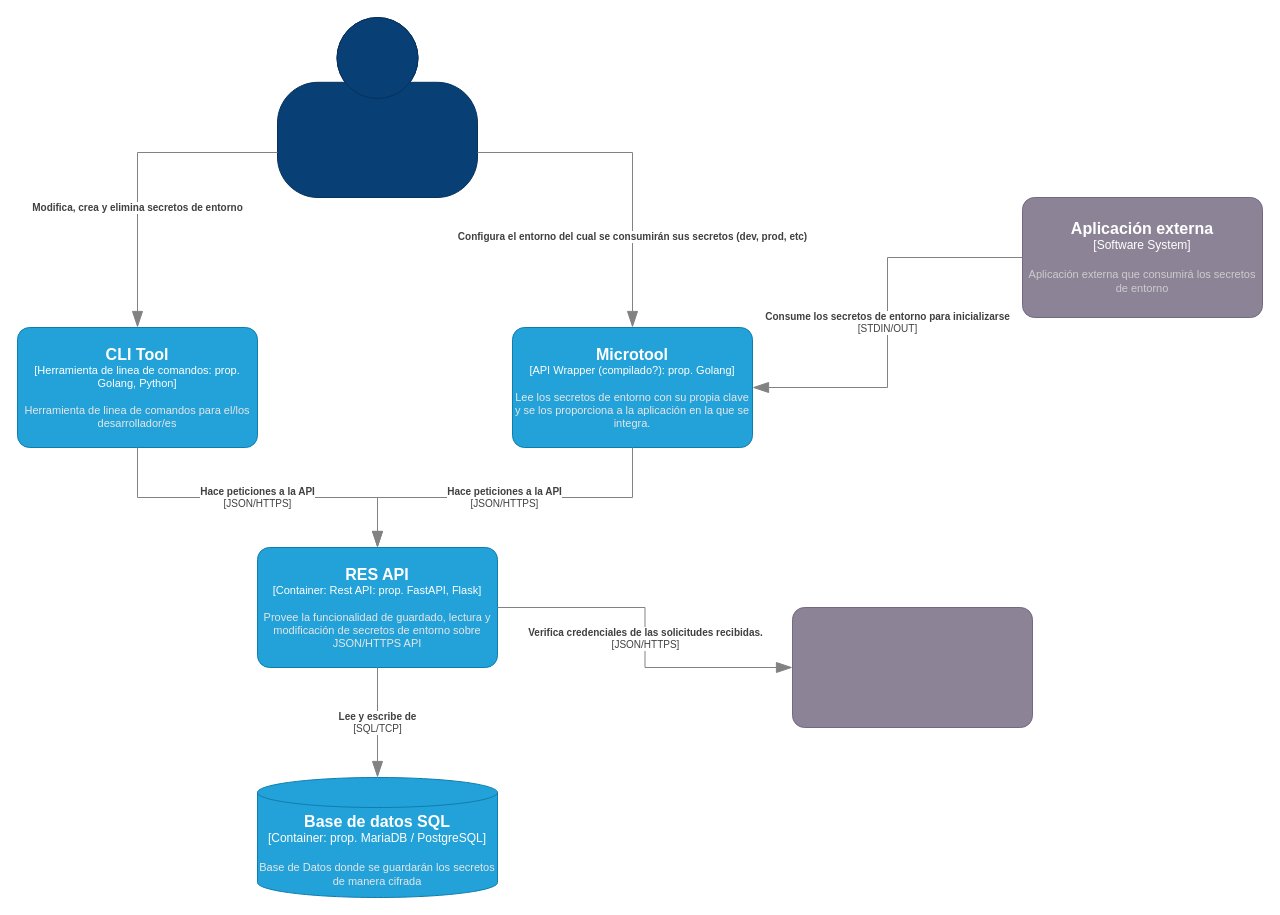
This 1280x915 diagram has some shape labels left out. The shapes that lost their labels are listed below. From the top down, each one's centre as x and y in pixels, then its label:
[377,107]: Desarrollador [Person] Desarrollador de la aplicación que usará el servicio
[912,667]: Autenticador [Autenticador] Proporciona el medio de autenticación OAuth 2.0
